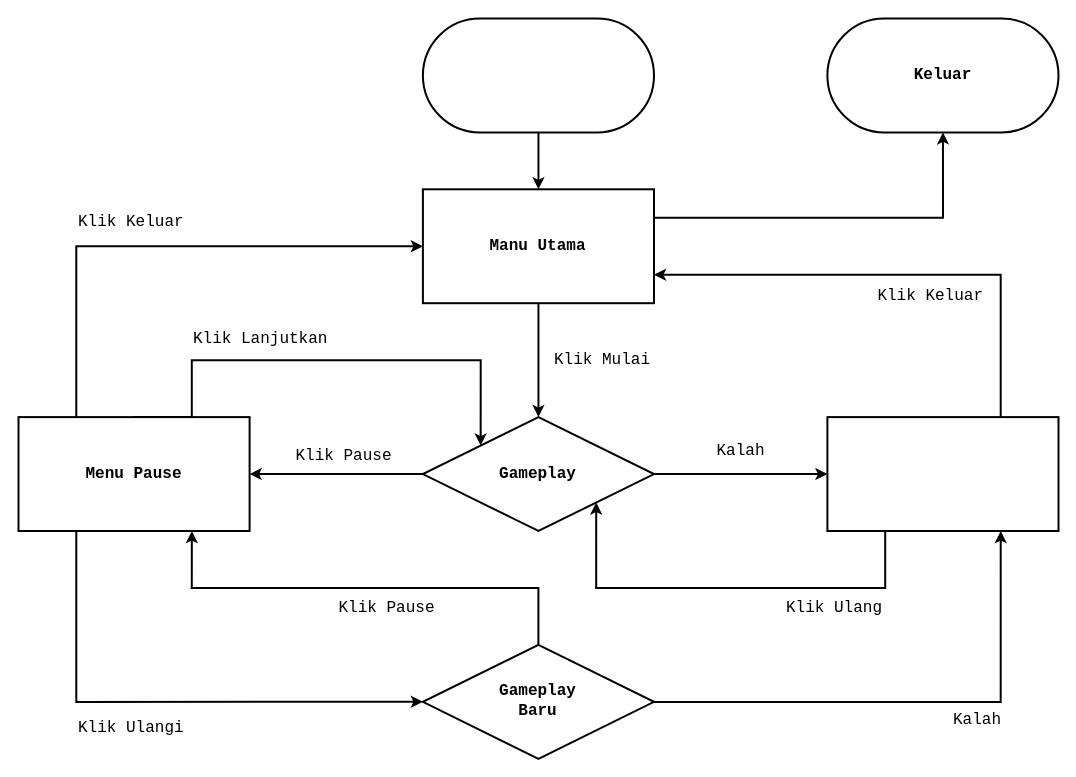
Some shapes in this 1076 by 777 pixel diagram are drawn without their labels. The shapes that lost their labels are listed below. From the top down, each one's box as (x1, y1, x2, y2) in pixels, then its label:
(421, 17, 654, 133): Masuk
(826, 416, 1059, 532): Gameover
